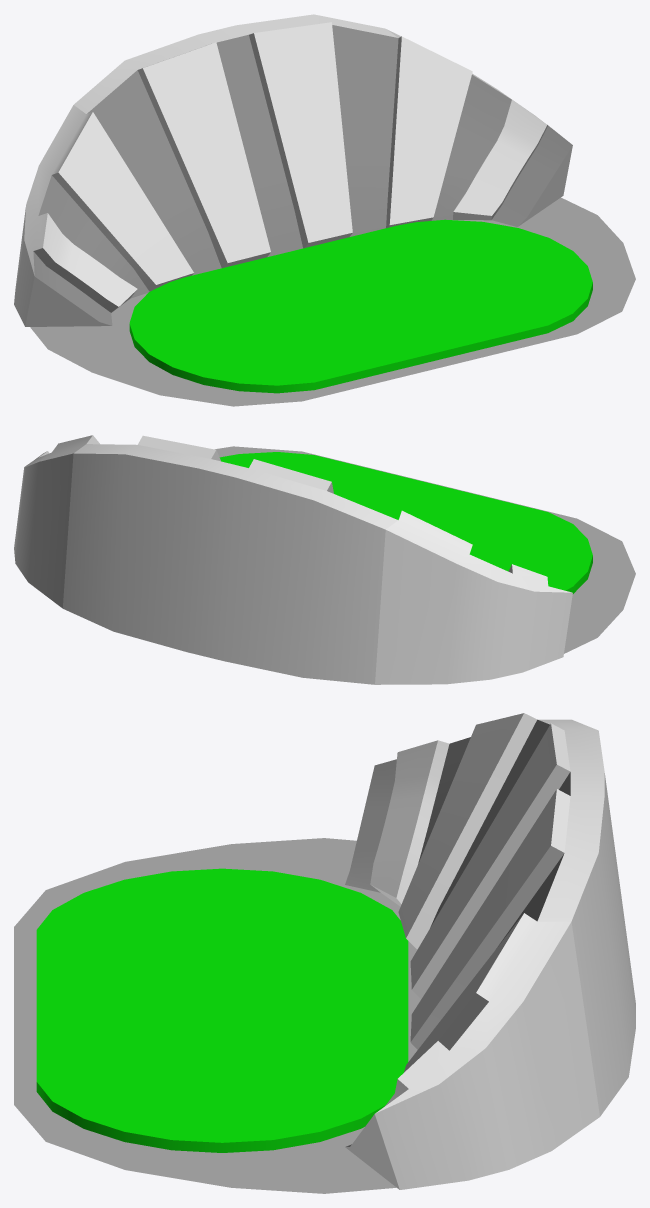
Rendered from devrim.fbx.
3 views of the same model, one above another, from view 1: azimuth 30°, elevation 25°; view 2: azimuth 150°, elevation 25°; view 3: azimuth 270°, elevation 25° (orthographic). The views are drawn at different scales.
Visible parts, largest first — view 1: Devrim; view 2: Devrim; view 3: Devrim.
Boxes of the visible parts, bbox=[...] form: Devrim: bbox=[14, 14, 635, 406]; Devrim: bbox=[14, 435, 635, 684]; Devrim: bbox=[14, 713, 635, 1193].
Size of the model in its own units: 373 by 117 by 276.
